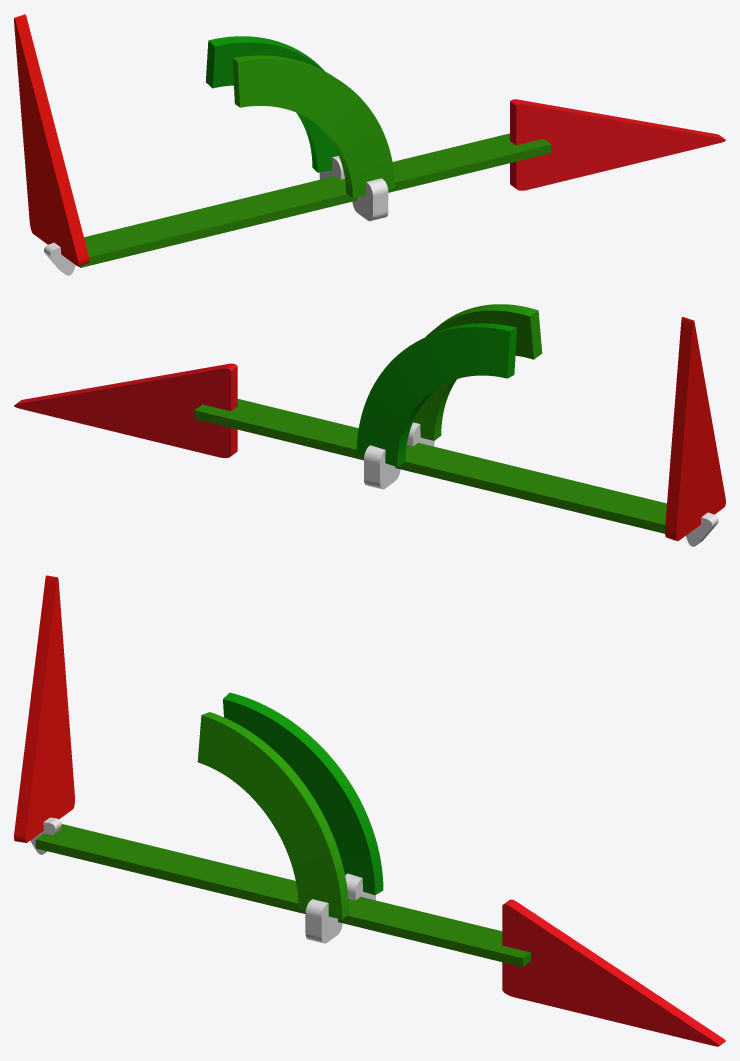
Rendered from modeo.glb.
The picture shows the model from 3 angles, top to bottom: view 1: azimuth 30°, elevation 25°; view 2: azimuth 150°, elevation 25°; view 3: azimuth 330°, elevation 25°; orthographic projection. The views are drawn at different scales.
Visible parts, largest first — view 1: Plane.001, Plane, Cube.002, Plane.002, Cube.001, Cube, Circle; view 2: Plane.001, Plane, Cube.001, Plane.002, Cube.002, Cube.003, Circle; view 3: Plane.001, Plane, Cube.002, Plane.002, Cube.001, Cube.
Boxes of the visible parts, bbox=[...] form: Plane.001: bbox=[79, 133, 551, 267]; Plane: bbox=[510, 99, 725, 190]; Cube.002: bbox=[232, 55, 394, 197]; Plane.002: bbox=[14, 14, 89, 266]; Cube.001: bbox=[205, 36, 338, 172]; Cube: bbox=[352, 178, 388, 221]; Circle: bbox=[44, 242, 75, 275]; Plane.001: bbox=[194, 399, 666, 533]; Plane: bbox=[14, 363, 237, 457]; Cube.001: bbox=[356, 323, 516, 466]; Plane.002: bbox=[665, 316, 725, 541]; Cube.002: bbox=[413, 304, 542, 440]; Cube.003: bbox=[364, 445, 400, 489]; Circle: bbox=[686, 512, 718, 546]; Plane.001: bbox=[35, 824, 530, 966]; Plane: bbox=[502, 899, 725, 1046]; Cube.002: bbox=[197, 712, 349, 919]; Plane.002: bbox=[14, 575, 74, 842]; Cube.001: bbox=[223, 692, 383, 894]; Cube: bbox=[305, 899, 342, 943].
Bounding box in the file's own units: 6.33 × 2.39 × 0.8802.
